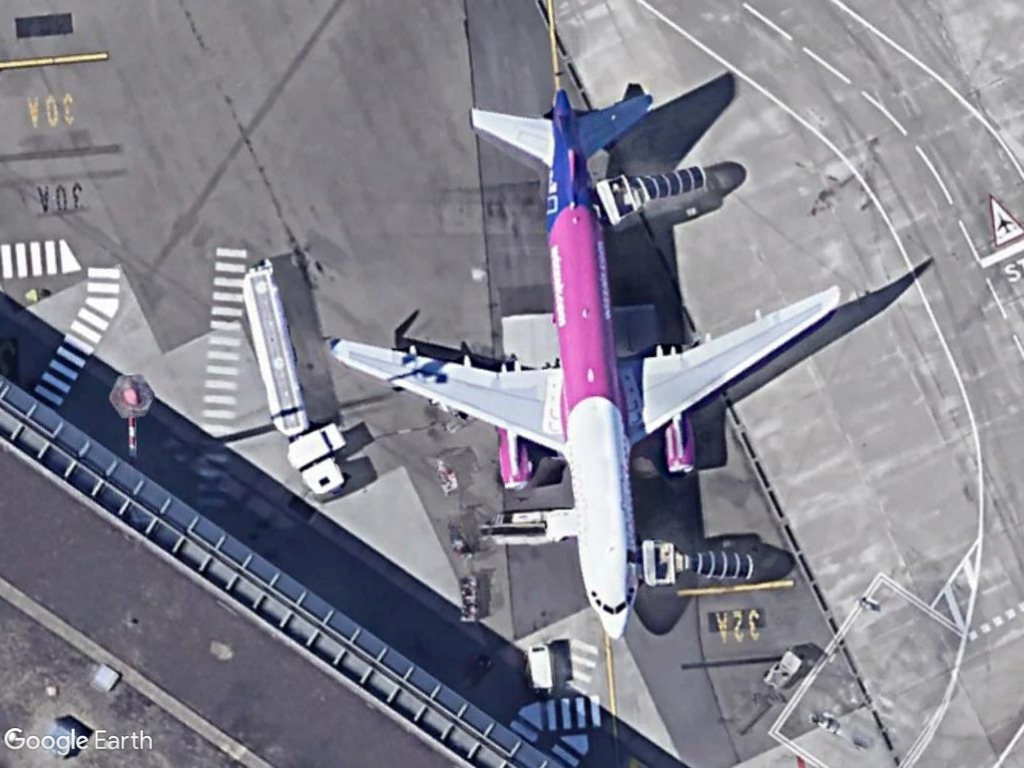airliner: (322, 85, 842, 643)
